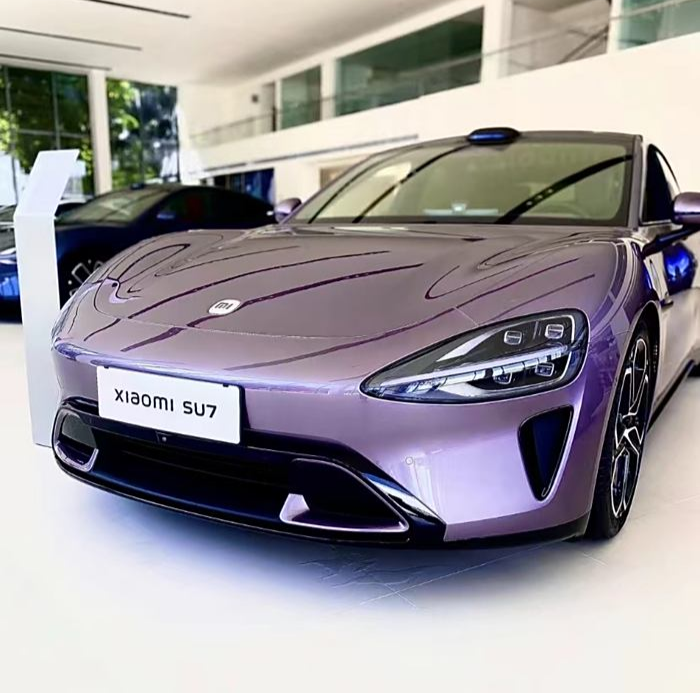su7: (48, 110, 700, 557)
